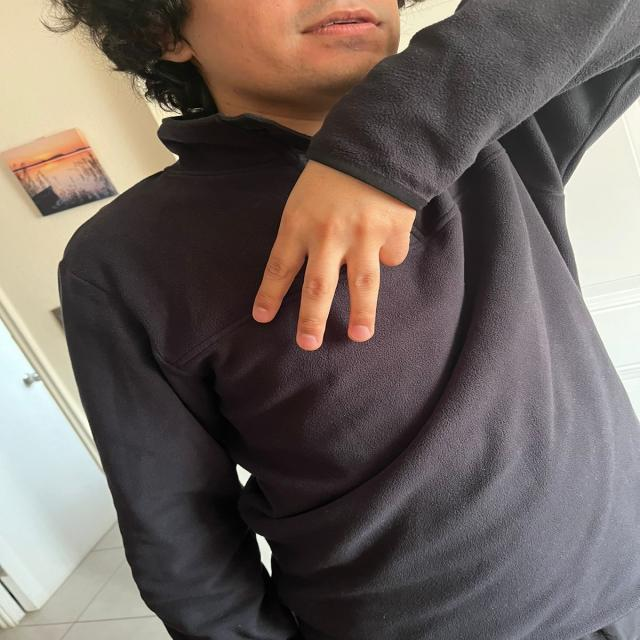M: (247, 121, 417, 355)
